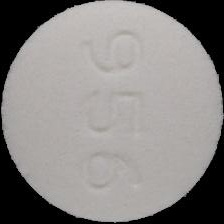47335-956: (0, 0, 224, 224)
